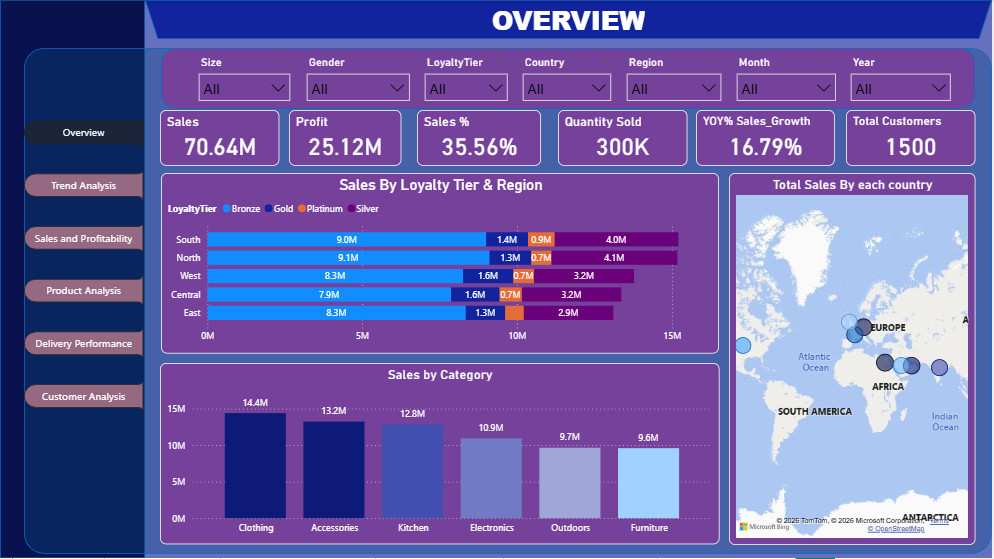

This screenshot's page, from the dashboard's own definition file:
{"tool":"powerbi","page":{"name":"Overview","canvas":[1280,720],"ordinal":0},"visuals":[{"type":"shape","box":[0,0,187.1,720.2],"z":0},{"type":"shape","box":[31.4,61.3,1248.6,652.6],"z":1000},{"type":"card","title":"Sales","fields":{"Values":["Measure.Total_sales"]},"box":[206.9,141.7,154.5,72.3],"z":2000},{"type":"card","title":"Quantity Sold","fields":{"Values":["Measure.Total_quantity"]},"box":[720.2,141.5,166.7,72.3],"z":3000},{"type":"card","title":"YOY% Sales_Growth ","fields":{"Values":["Measure.Total_sales YoY%"]},"box":[897.9,141.5,179.3,72.3],"z":4000},{"type":"card","title":"Profit Margin","fields":{"Values":["Measure.Profit_margin"]},"box":[537.8,141.5,160.4,72.3],"z":5000},{"type":"card","title":"Profit","fields":{"Values":["Measure.Total_profit"]},"box":[372.7,141.5,144.7,72.3],"z":6000},{"type":"shape","box":[207.6,61.3,1050.4,78.6],"z":7000},{"type":"slicer","fields":{"Values":["DimDate.Date.Variation.Date Hierarchy.Year"]},"box":[1088.2,67.6,149.4,66],"z":8000},{"type":"slicer","fields":{"Values":["DimProduct.Size"]},"box":[246.9,67.6,138.4,66],"z":9000},{"type":"slicer","fields":{"Values":["DimCustomer.Gender"]},"box":[385.3,67.6,152.5,66],"z":10000},{"type":"slicer","fields":{"Values":["DimCustomer.LoyaltyTier"]},"box":[537.8,67.6,127.4,66],"z":11000},{"type":"slicer","fields":{"Values":["DimGeography.Country"]},"box":[665.2,67.6,133.7,66],"z":12000},{"type":"slicer","fields":{"Values":["DimDate.Date.Variation.Date Hierarchy.Month"]},"box":[940.3,67.6,147.8,66],"z":13000},{"type":"slicer","fields":{"Values":["DimGeography.Region"]},"box":[798.8,67.6,141.5,66],"z":14000},{"type":"pageNavigator","box":[31.4,141.5,154.1,402.6],"z":15000},{"type":"barChart","title":"Sales By Loyalty Tier & Region","fields":{"Category":["DimGeography.Region"],"Series":["DimCustomer.LoyaltyTier"],"Y":["Measure.Total_sales"]},"box":[207.6,223.3,720.2,232.7],"z":16000},{"type":"map","title":"Total Sales By each country","fields":{"Category":["DimGeography.Country"],"Size":["Measure.Total_sales"]},"box":[940.3,223.3,317.6,479.6],"z":17000},{"type":"shape","box":[187.1,0,1092.9,50.3],"z":18000},{"type":"card","title":"Total Customers","fields":{"Values":["Measure.Distinct_customers"]},"box":[1091.3,141.5,166.7,72.3],"z":19000},{"type":"columnChart","title":"Sales by Category","fields":{"Category":["DimProduct.Category"],"Y":["Measure.Total_sales"]},"box":[206,468.6,721.8,234.3],"z":20000}]}

Visuals, with their boxes in screenshot pixels (x1, y1, x2, y2), scaled from the page's 1280x720 canvas onto the 994x559 screenshot:
shape: box=[0, 0, 145, 558]
shape: box=[24, 48, 993, 554]
"Sales" card: box=[161, 110, 281, 166]
"Quantity Sold" card: box=[559, 110, 689, 166]
"YOY% Sales_Growth " card: box=[697, 110, 837, 166]
"Profit Margin" card: box=[418, 110, 542, 166]
"Profit" card: box=[289, 110, 402, 166]
shape: box=[161, 48, 977, 109]
slicer - DimDate.Date.Variation.Date Hierarchy.Year: box=[845, 52, 961, 104]
slicer - DimProduct.Size: box=[192, 52, 299, 104]
slicer - DimCustomer.Gender: box=[299, 52, 418, 104]
slicer - DimCustomer.LoyaltyTier: box=[418, 52, 517, 104]
slicer - DimGeography.Country: box=[517, 52, 620, 104]
slicer - DimDate.Date.Variation.Date Hierarchy.Month: box=[730, 52, 845, 104]
slicer - DimGeography.Region: box=[620, 52, 730, 104]
pageNavigator: box=[24, 110, 144, 422]
"Sales By Loyalty Tier & Region" barChart: box=[161, 173, 720, 354]
"Total Sales By each country" map: box=[730, 173, 977, 546]
shape: box=[145, 0, 993, 39]
"Total Customers" card: box=[847, 110, 977, 166]
"Sales by Category" columnChart: box=[160, 364, 720, 546]
